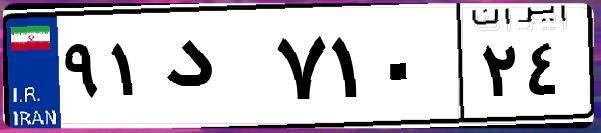0: (385, 28, 445, 110)
1: (330, 28, 385, 110), (110, 28, 158, 98)
2: (475, 38, 525, 113)
4: (525, 38, 570, 115)
7: (270, 28, 330, 110)
9: (57, 26, 110, 100)
د: (158, 20, 270, 120)
